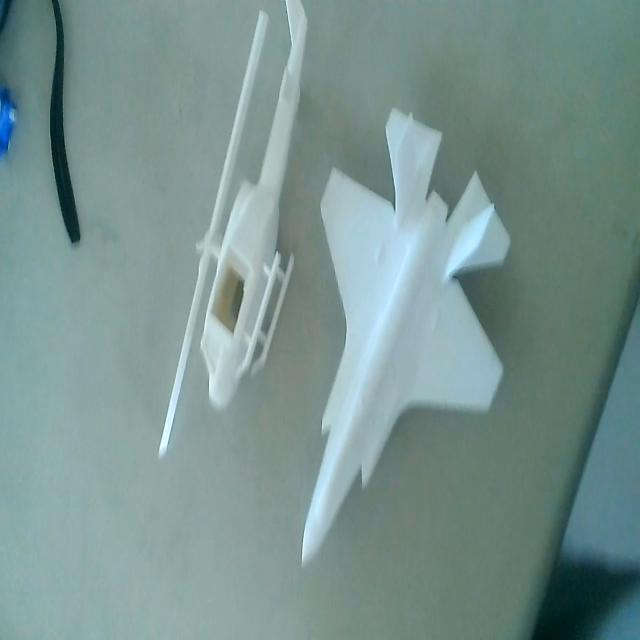Helicopter: (152, 0, 309, 468)
Jet: (303, 109, 510, 556)
